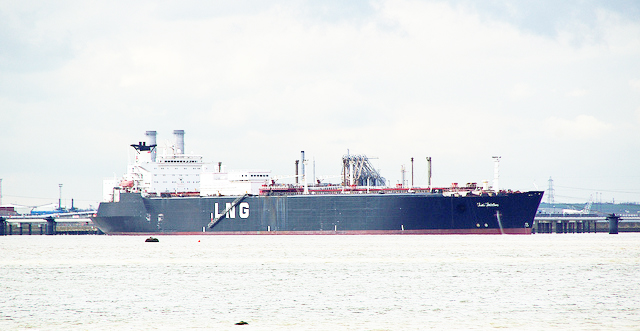LNG_ship: (93, 123, 547, 231)
